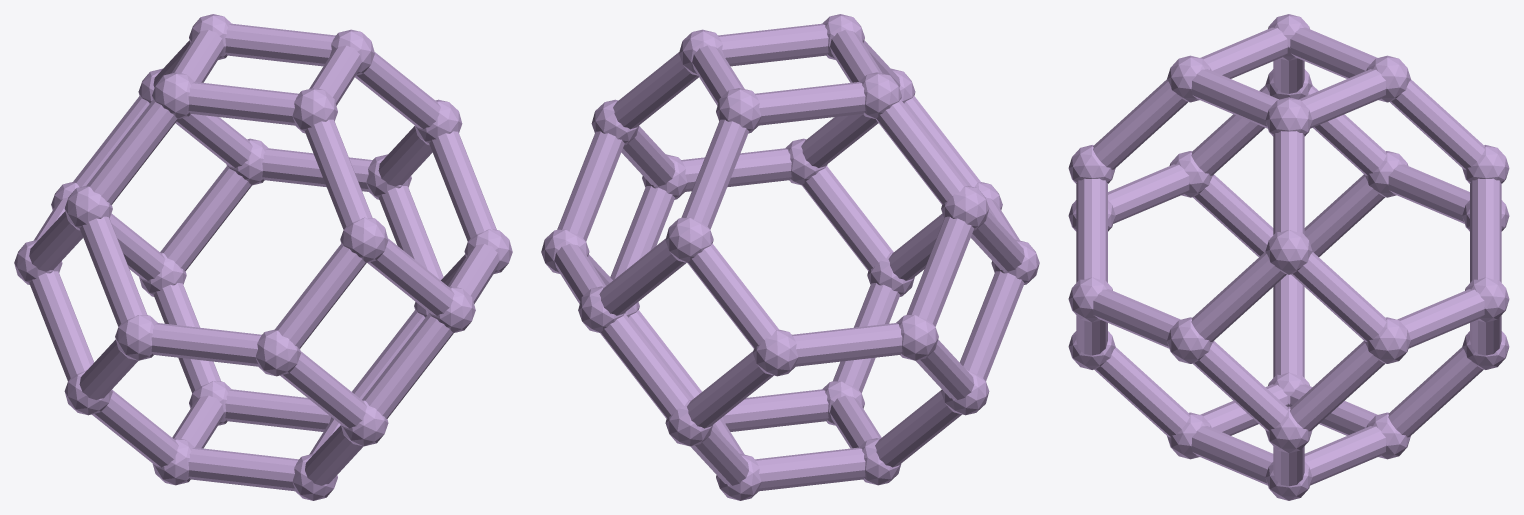
The model's file is kelvin_cell_demo.glb.
The picture shows the model from 3 angles, left to right: view 1: azimuth 30°, elevation 25°; view 2: azimuth 150°, elevation 25°; view 3: azimuth 270°, elevation 25°; orthographic projection. The views are drawn at different scales.
Parts seen in each view (by area): view 1: kelvin_cell; view 2: kelvin_cell; view 3: kelvin_cell.
Boxes of the visible parts, bbox=[...] form: kelvin_cell: bbox=[14, 14, 512, 500]; kelvin_cell: bbox=[541, 14, 1039, 500]; kelvin_cell: bbox=[1068, 14, 1509, 500].
Size of the model in its own units: 22.4 by 22.4 by 22.4.
